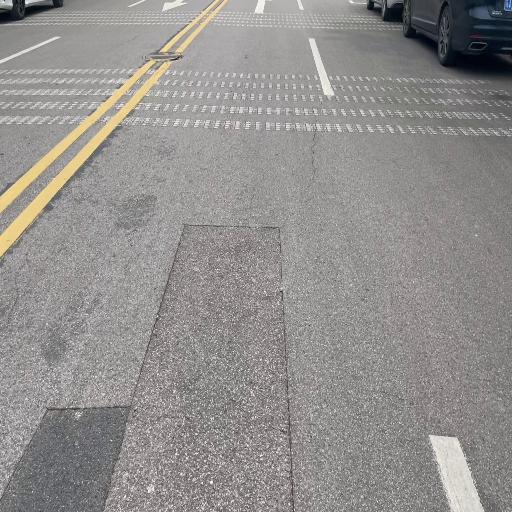Sambungan: (0, 227, 293, 512)
